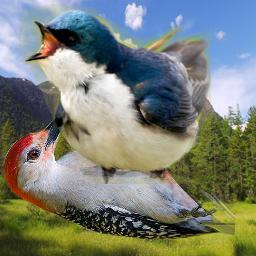Swallow: (19, 4, 211, 184)
Woodpecker: (4, 101, 235, 240)
